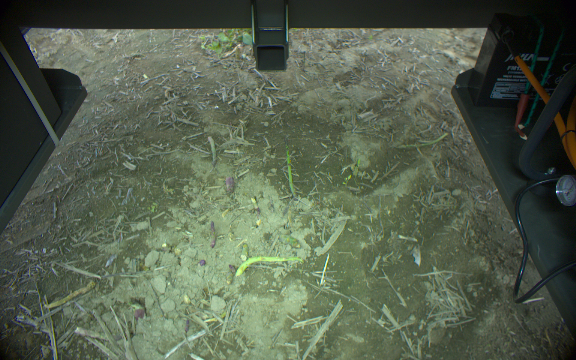aspa: (44, 279, 97, 316), (236, 255, 303, 281), (281, 137, 298, 200), (127, 300, 148, 320), (206, 133, 217, 170), (220, 172, 235, 196), (206, 222, 219, 249)
